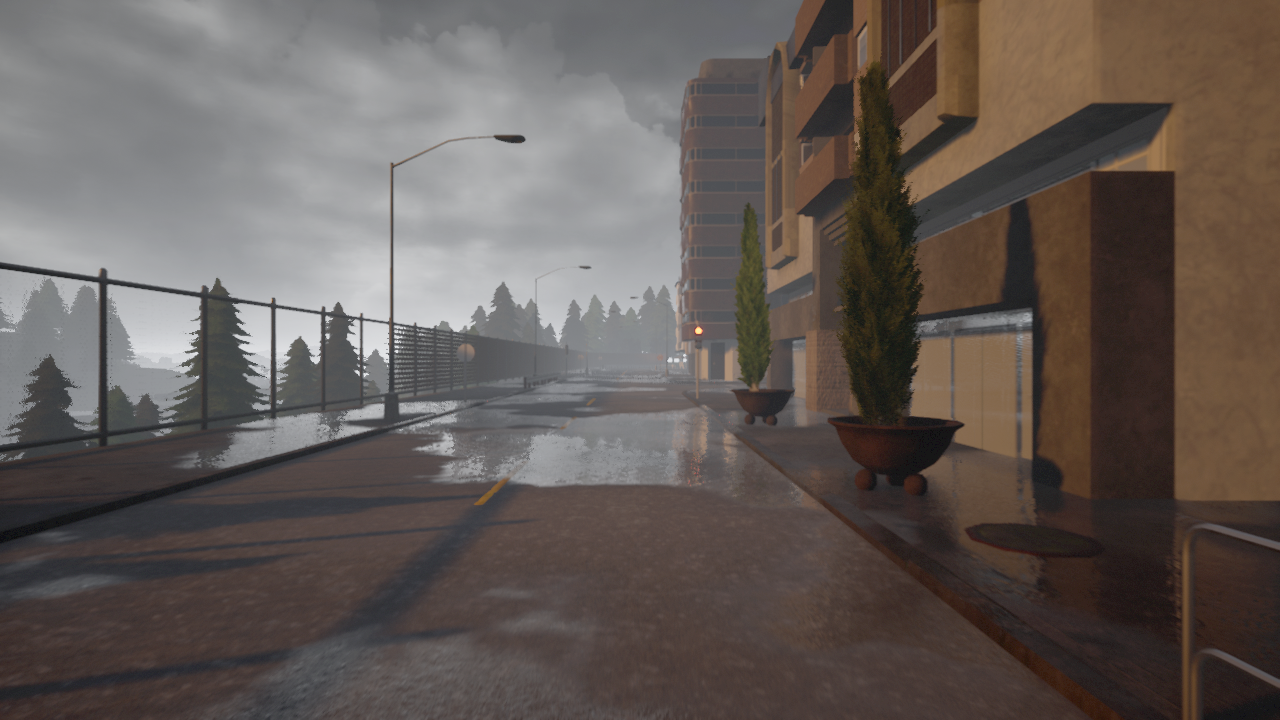red: (694, 324, 703, 348)
